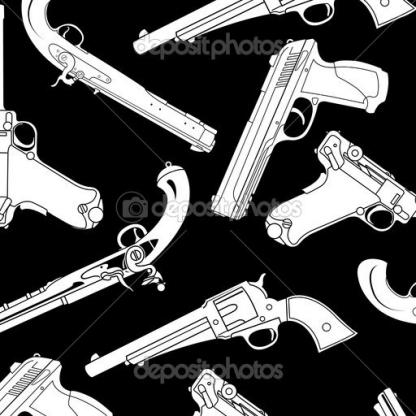gun: (200, 34, 393, 228), (87, 275, 371, 381), (0, 0, 123, 235), (234, 134, 415, 279), (125, 0, 404, 54), (115, 369, 394, 415), (0, 352, 120, 415)
